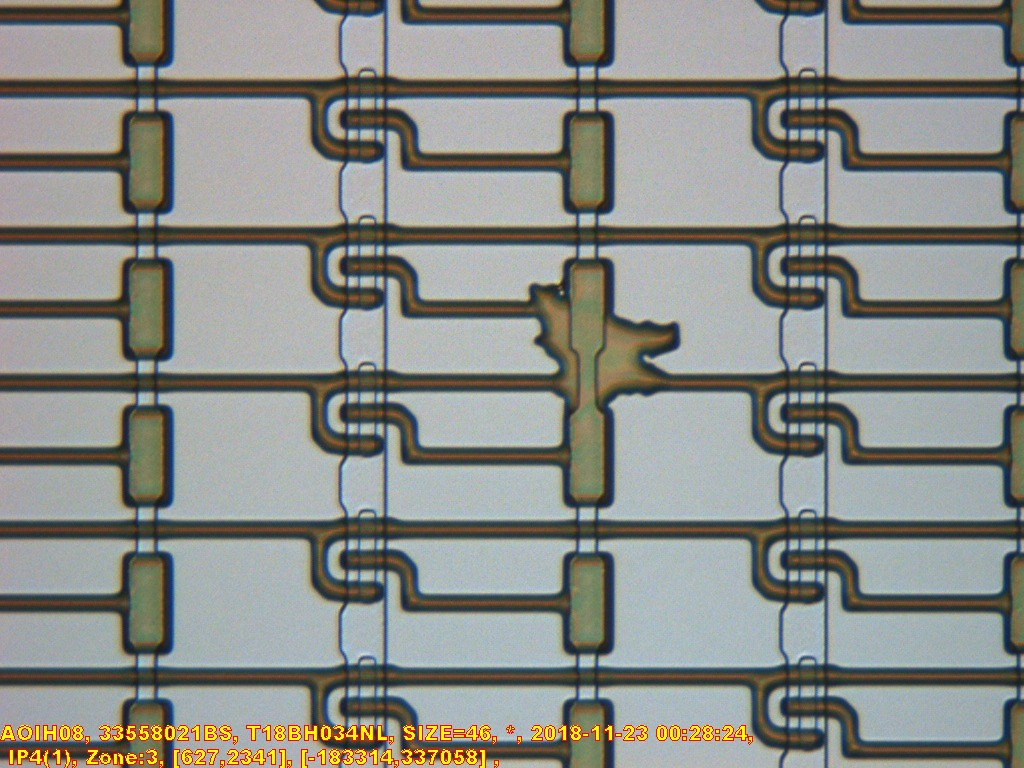good: (119, 111, 177, 215), (559, 111, 617, 215), (119, 258, 177, 362), (119, 405, 177, 509), (559, 404, 617, 508), (118, 552, 176, 656), (559, 552, 617, 656)
ng: (526, 257, 685, 400)
